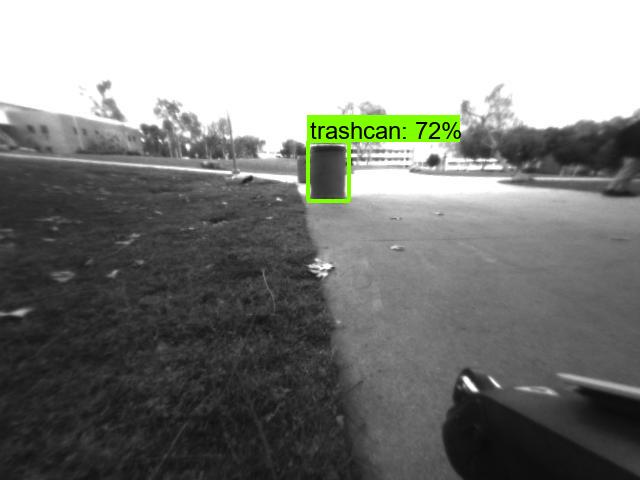trashcan: (311, 141, 346, 204), (296, 151, 315, 185)
